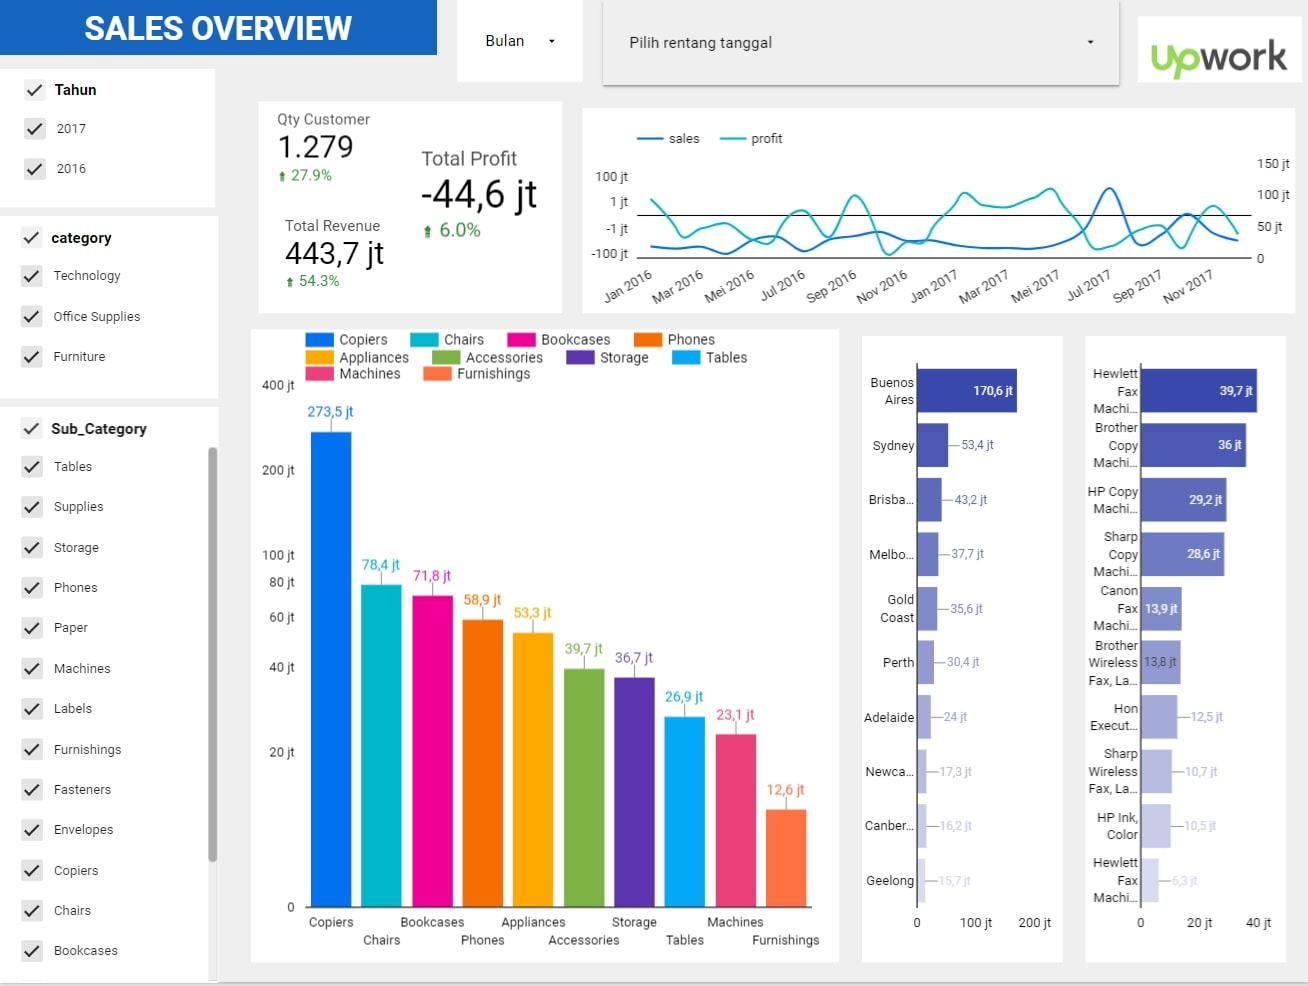

What the dashboard file says about the page in this screenshot:
{"tool":"powerbi","page":{"name":"SO by Revenue","canvas":[1280,720],"ordinal":0},"visuals":[{"type":"textbox","box":[11,26.2,286.3,68.8],"z":0},{"type":"slicer","fields":{"Values":["FACT_CustTrx.category"]},"box":[11,205.1,199.6,99.1],"z":1000},{"type":"lineChart","title":"Sales by Month","fields":{"Category":["FACT_CustTrx.Order Date.Variasi.Hierarki Tanggal.Bulan"],"Y":["Sum(FACT_CustTrx.sales)"],"Y2":["Sum(FACT_CustTrx.profit)"]},"box":[743.2,106,521.6,264.3],"z":2000},{"type":"slicer","fields":{"Values":["FACT_CustTrx.Sub-Category"]},"box":[11,316.6,199.6,377.1],"z":3000},{"type":"slicer","fields":{"Values":["FACT_CustTrx.Order Date.Variasi.Hierarki Tanggal.Tahun"]},"box":[11,106,199.6,79.8],"z":4000},{"type":"slicer","fields":{"Values":["FACT_CustTrx.Order Date.Variasi.Hierarki Tanggal.Bulan"]},"box":[297.3,26.2,967.6,68.8],"z":5000},{"type":"clusteredBarChart","title":"Sales by City","fields":{"Category":["FACT_CustTrx.city"],"Y":["Sum(FACT_CustTrx.sales)"]},"box":[743.2,379.9,261.5,313.8],"z":6000},{"type":"donutChart","title":"Sales by Category","fields":{"Y":["Sum(FACT_CustTrx.sales)"],"Category":["FACT_CustTrx.Sub-Category"]},"box":[217.5,264.3,518.9,429.4],"z":7000},{"type":"clusteredBarChart","title":"Sales by Product","fields":{"Y":["Sum(FACT_CustTrx.sales)"],"Category":["FACT_CustTrx.Product Name"]},"box":[1014.4,379.9,250.5,313.8],"z":8000},{"type":"BBED0A4D4D8D44CE93CF2DAFADEE466C","fields":{"actual":["Sum(FACT_CustTrx.sales)"]},"box":[217.5,106,518.9,148.6],"z":9000}]}

Visuals, with their boxes on the page's 1280x720 design canvas (x1, y1, x2, y2). These are canvas units, not pixel positions in the 1308x986 screenshot, which may show the page scaled, cropped or inside an application window:
textbox: bbox(11, 26, 297, 95)
slicer - FACT_CustTrx.category: bbox(11, 205, 211, 304)
"Sales by Month" lineChart: bbox(743, 106, 1265, 370)
slicer - FACT_CustTrx.Sub-Category: bbox(11, 317, 211, 694)
slicer - FACT_CustTrx.Order Date.Variasi.Hierarki Tanggal.Tahun: bbox(11, 106, 211, 186)
slicer - FACT_CustTrx.Order Date.Variasi.Hierarki Tanggal.Bulan: bbox(297, 26, 1265, 95)
"Sales by City" clusteredBarChart: bbox(743, 380, 1005, 694)
"Sales by Category" donutChart: bbox(218, 264, 736, 694)
"Sales by Product" clusteredBarChart: bbox(1014, 380, 1265, 694)
BBED0A4D4D8D44CE93CF2DAFADEE466C - Sum(FACT_CustTrx.sales): bbox(218, 106, 736, 255)
